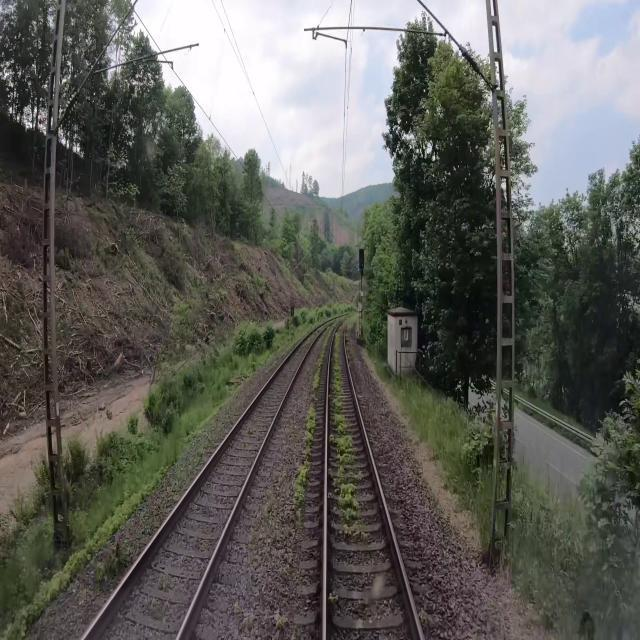Plant: (326, 333, 373, 546), (291, 331, 331, 537), (93, 541, 128, 590)
